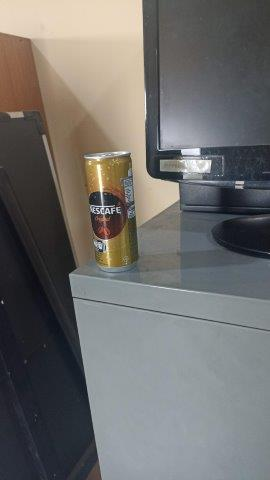kaleng: (84, 151, 141, 273)
